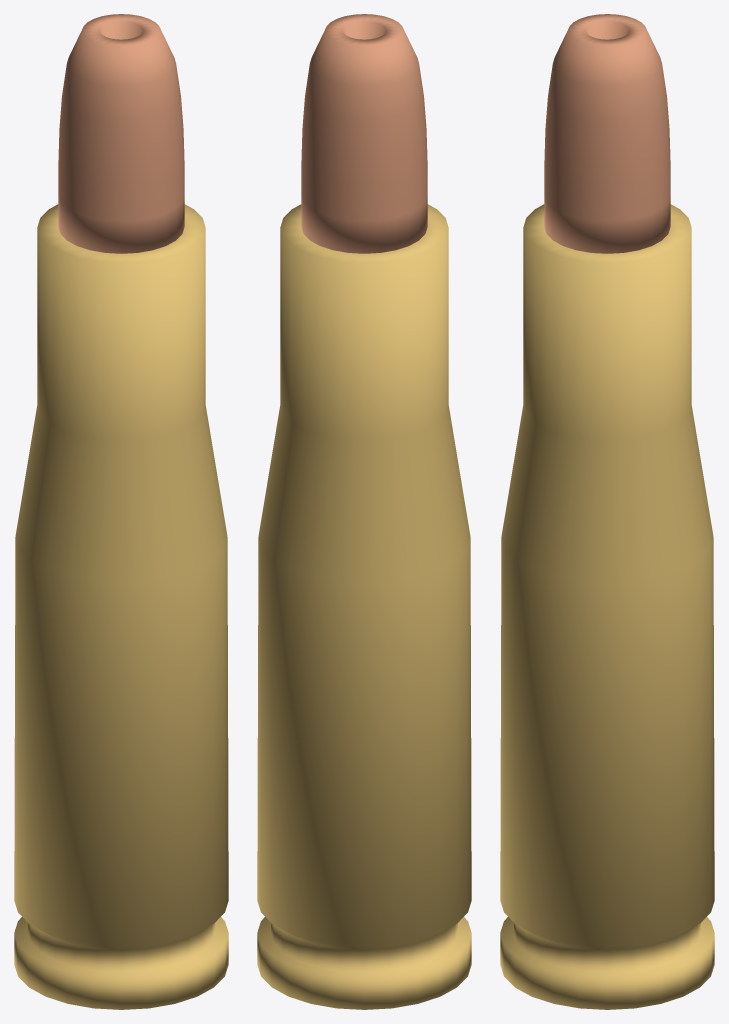
3 views of the same model, side by side, from view 1: azimuth 30°, elevation 25°; view 2: azimuth 150°, elevation 25°; view 3: azimuth 270°, elevation 25° (orthographic).
Visible parts, largest first — view 1: vaina, bala_hueca; view 2: vaina, bala_hueca; view 3: vaina, bala_hueca.
Boxes of the visible parts, x1,y1,x2,y2 form: vaina: (14, 204, 228, 1009); bala_hueca: (58, 14, 184, 253); vaina: (257, 204, 471, 1009); bala_hueca: (301, 14, 427, 253); vaina: (500, 204, 714, 1009); bala_hueca: (544, 14, 670, 253).
Size of the model in its own units: 0.0079 by 0.038 by 0.0079.
